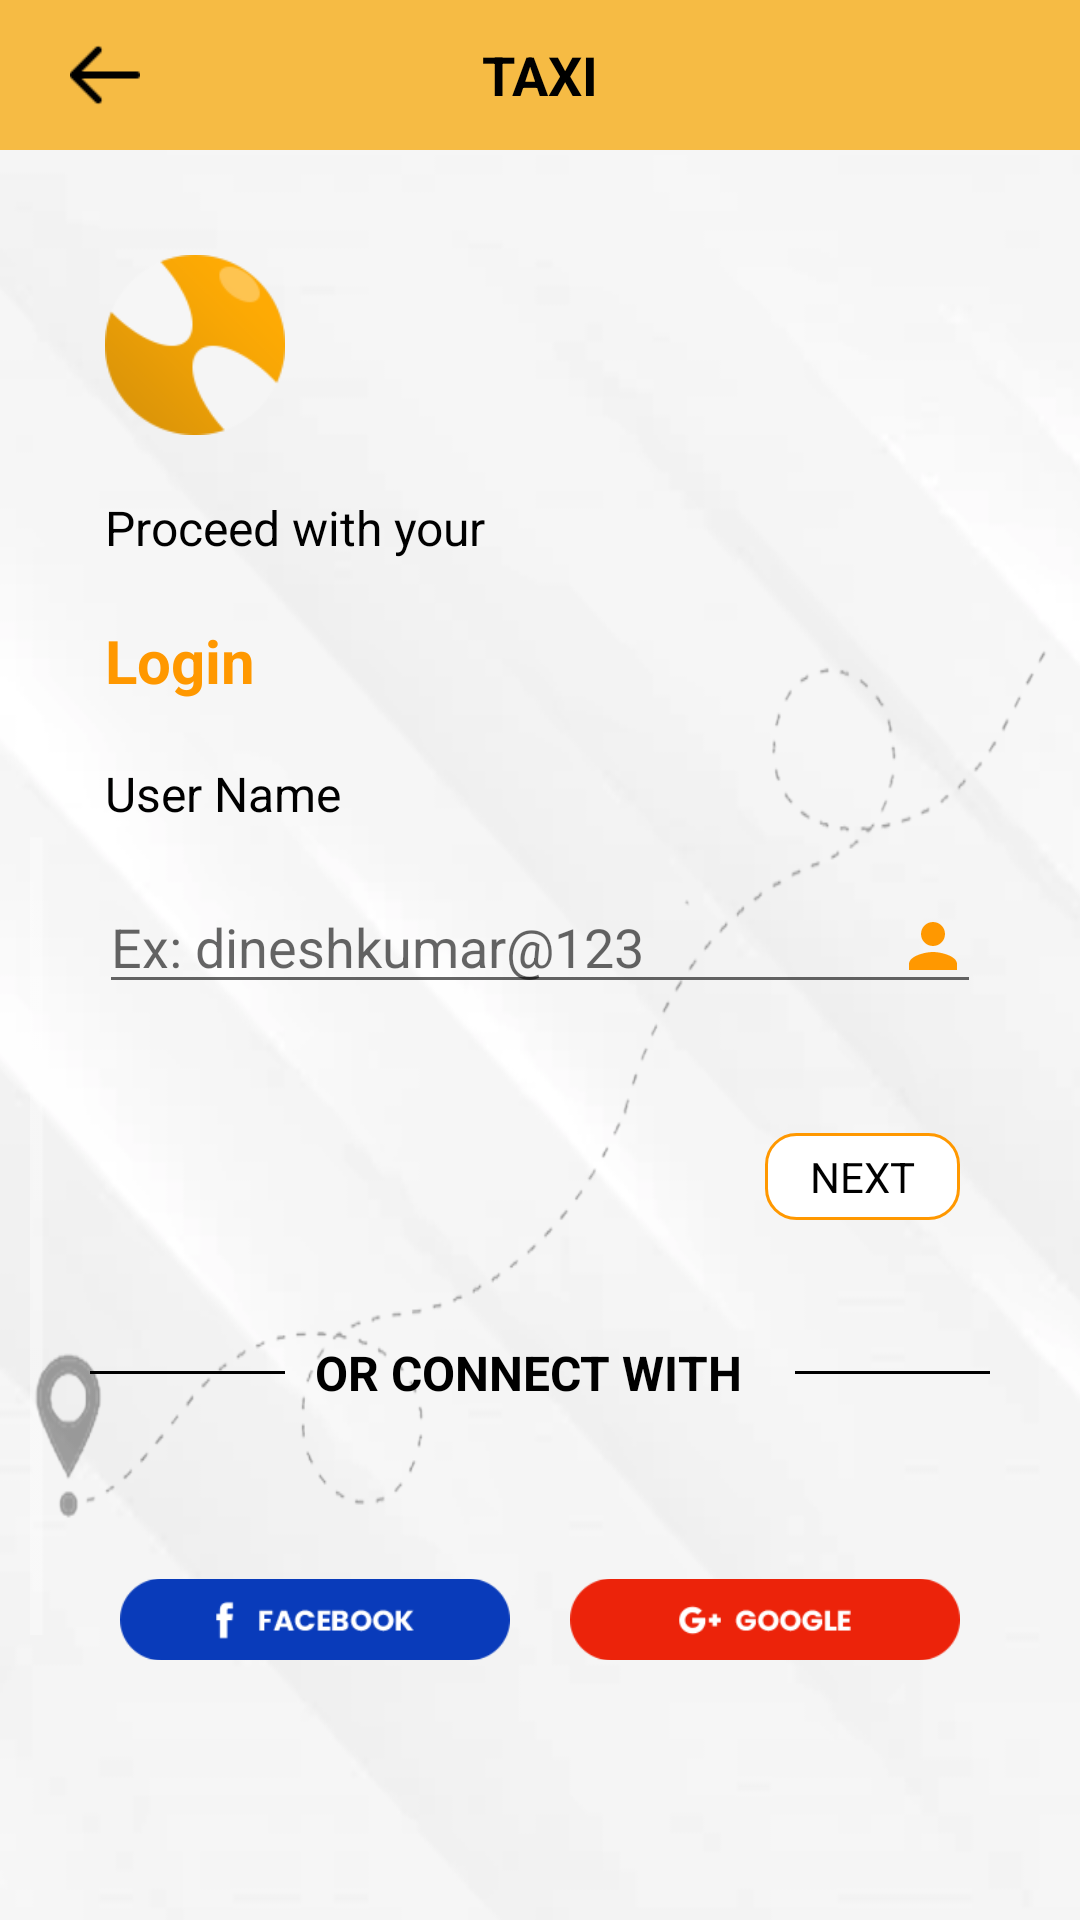

Icon click points for this 1080 x 1920 phone screenshot, format (x=x, y=y):
back: (x=105, y=75)
